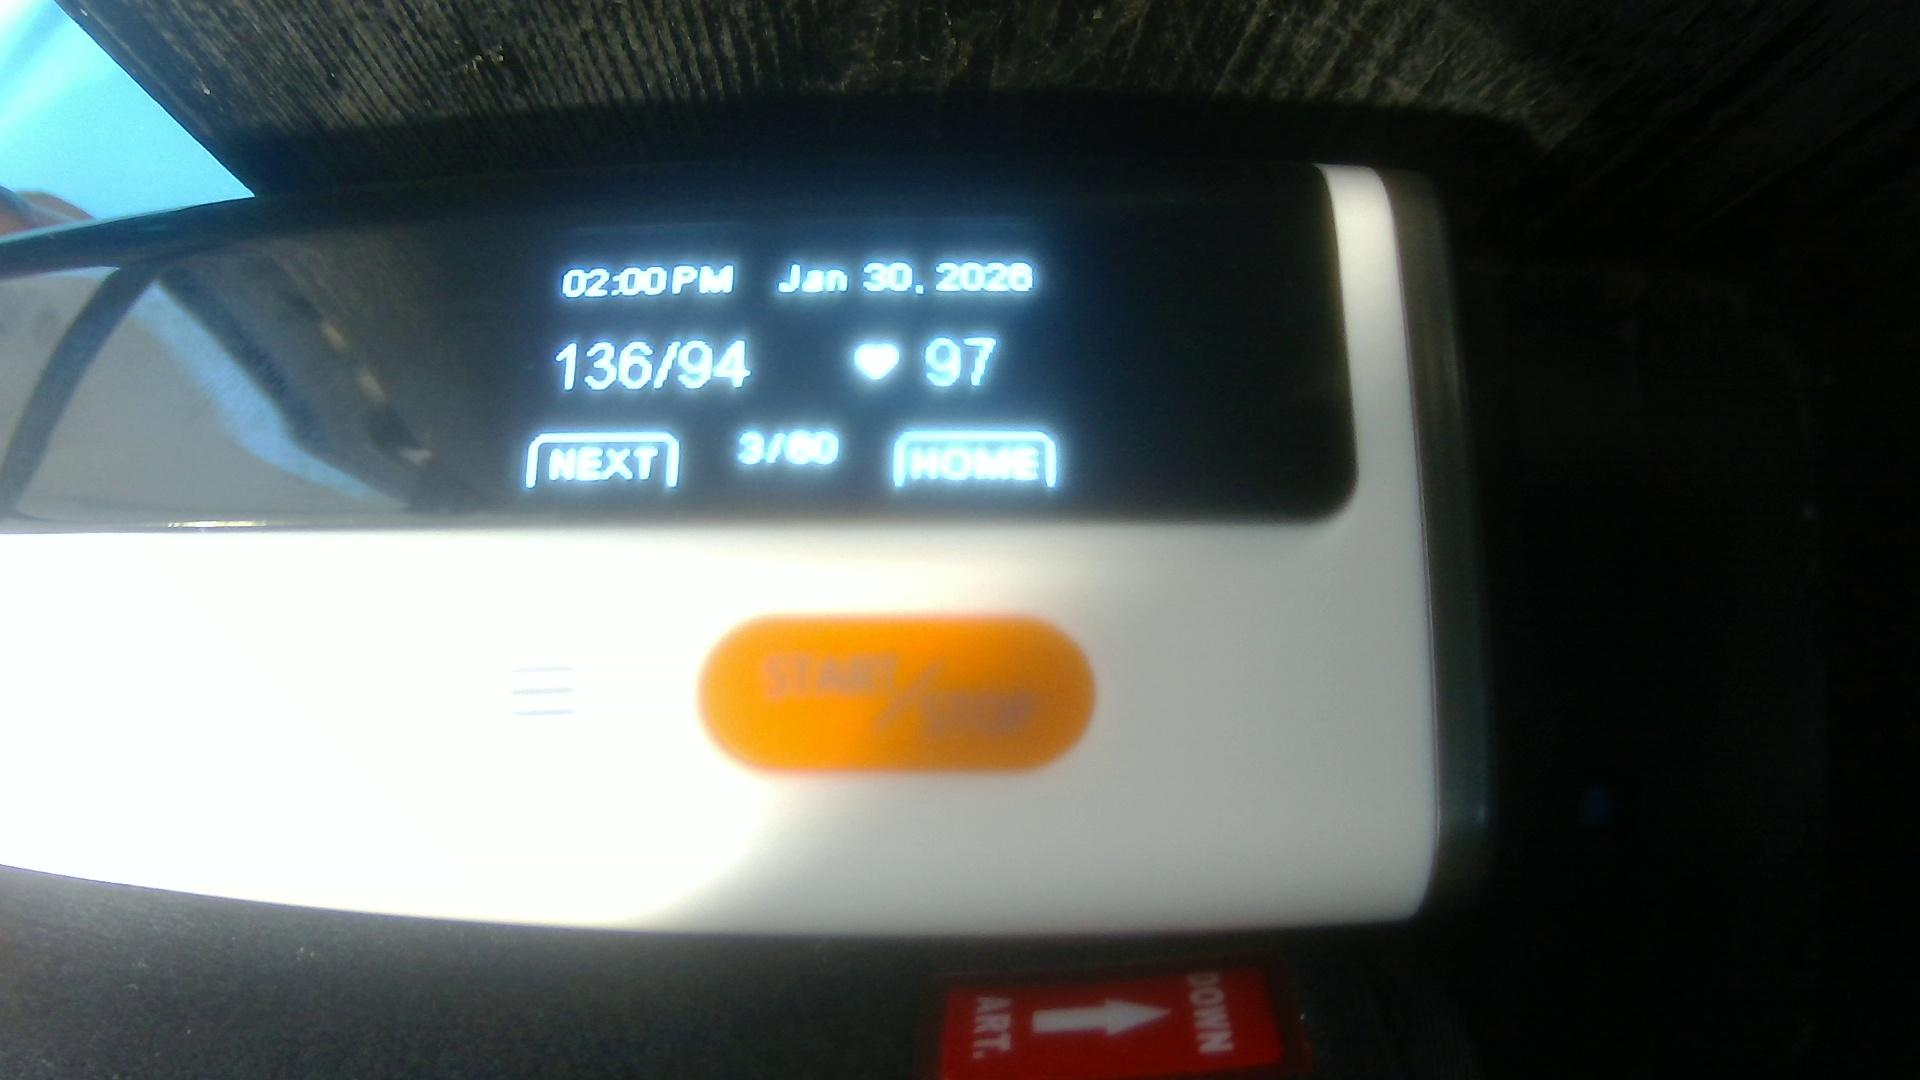DISPLAY: (16, 177, 1335, 534)
